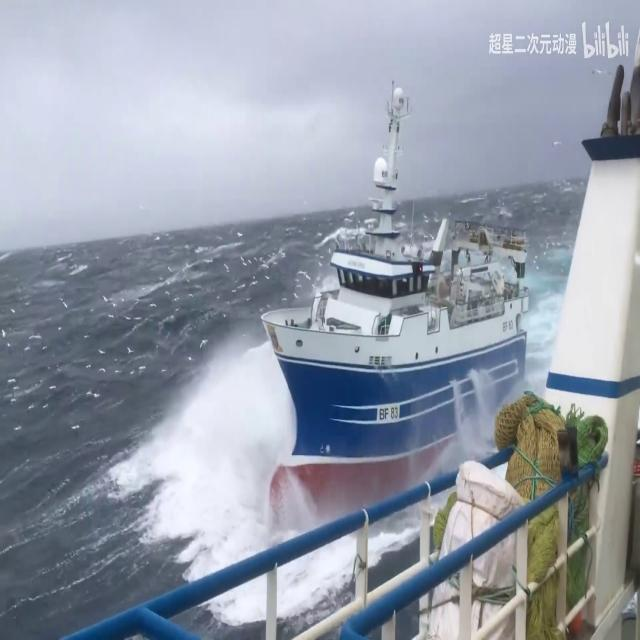houseboat: (262, 91, 526, 496)
